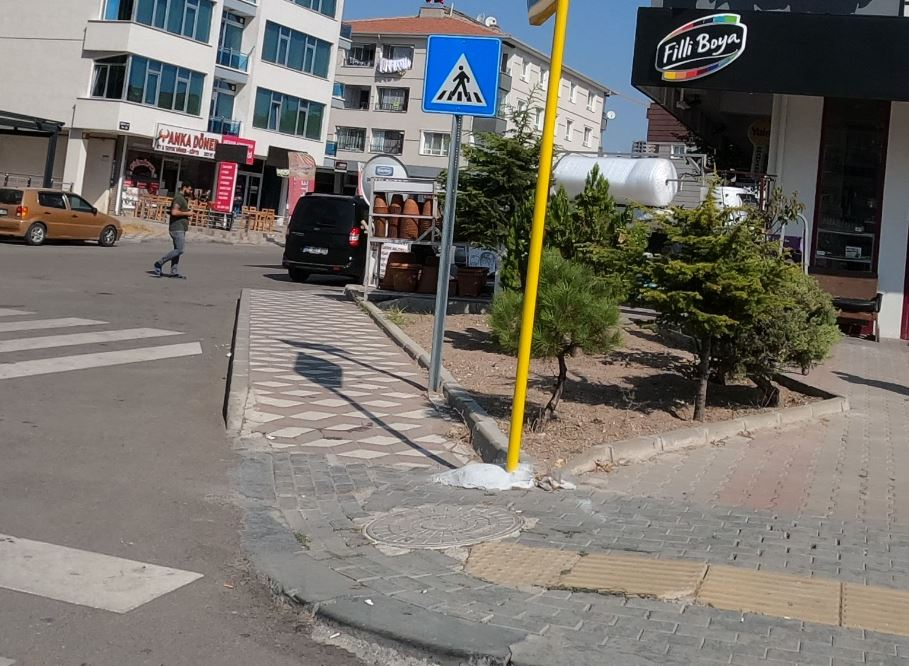Yaya Gecidi: (428, 37, 497, 115)
